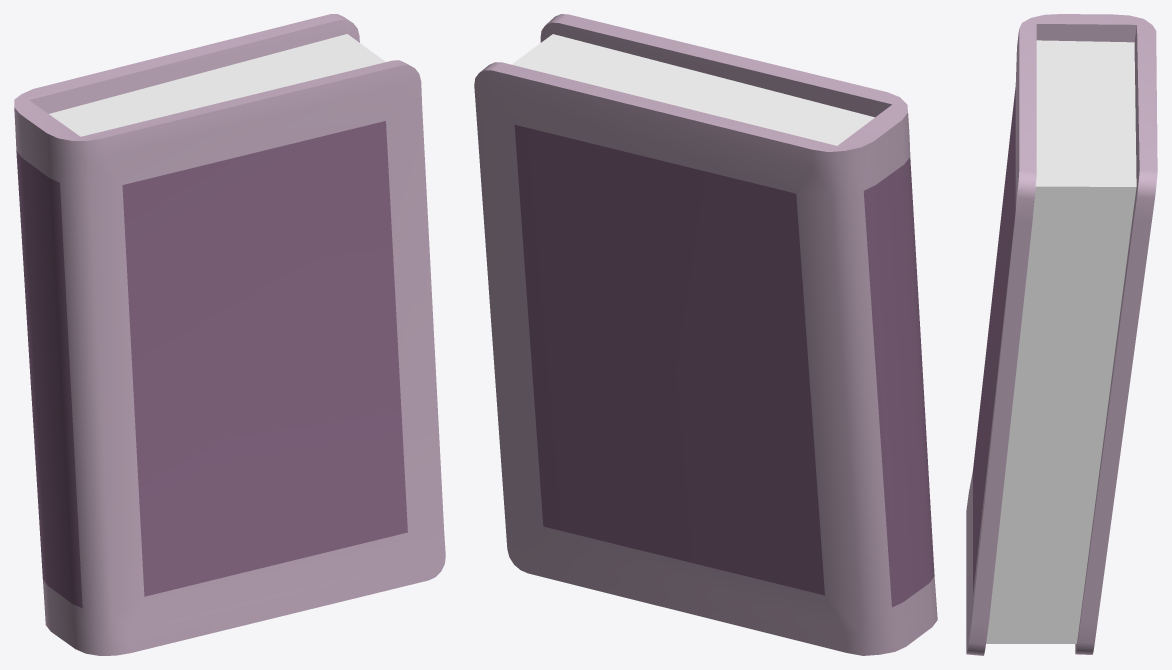
The model's file is book_15.fbx.
The picture shows the model from 3 angles, left to right: view 1: azimuth 30°, elevation 25°; view 2: azimuth 150°, elevation 25°; view 3: azimuth 270°, elevation 25°; orthographic projection. The views are drawn at different scales.
Parts seen in each view (by area): view 1: book_15; view 2: book_15; view 3: book_15.
Boxes of the visible parts, x1=… form: book_15: x1=14, y1=14, x2=445, y2=655; book_15: x1=474, y1=14, x2=937, y2=655; book_15: x1=966, y1=14, x2=1157, y2=655.
Size of the model in its own units: 0.287 by 0.3884 by 0.1388.
